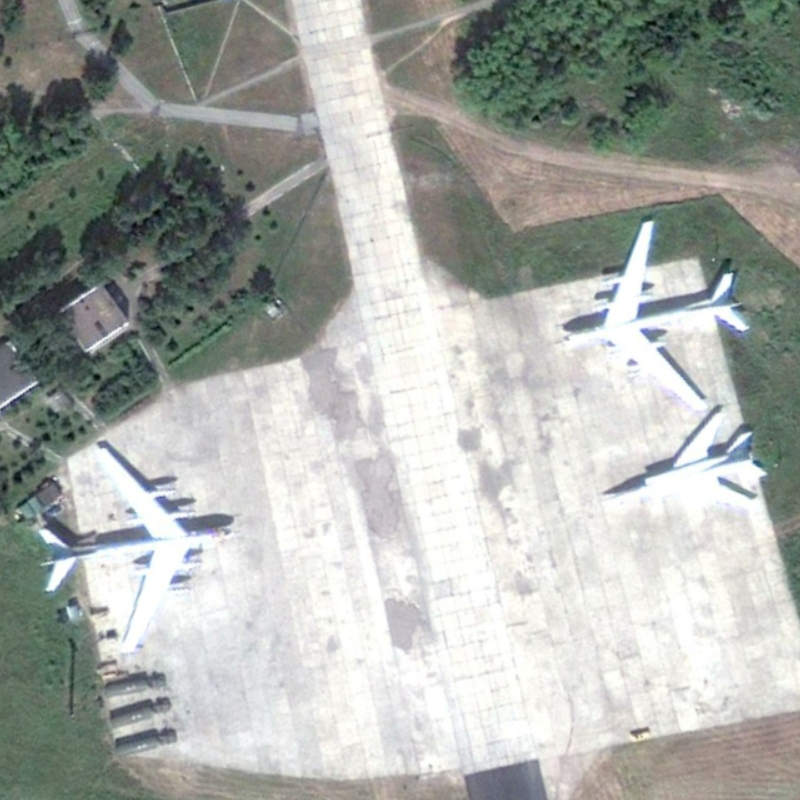A12: (598, 409, 769, 511)
A17: (35, 443, 236, 658), (556, 217, 753, 414)
